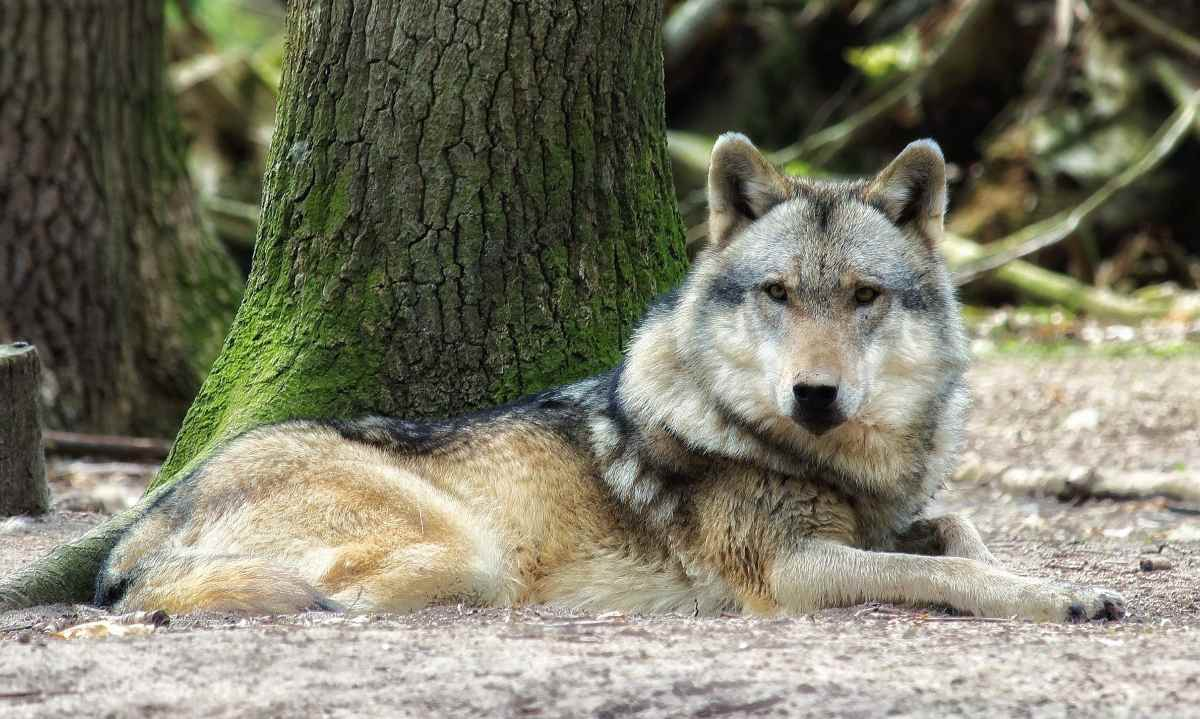Lobo: (85, 124, 1000, 682)
